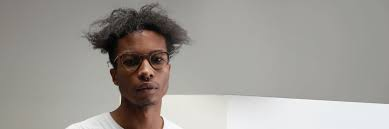g.y: (119, 45, 143, 69)
